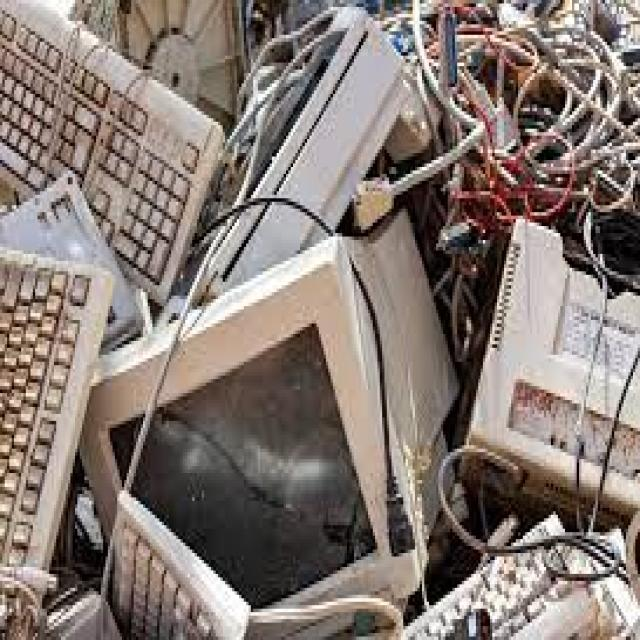Hazard: (14, 0, 640, 612)
